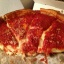pizza: (1, 12, 63, 52)
